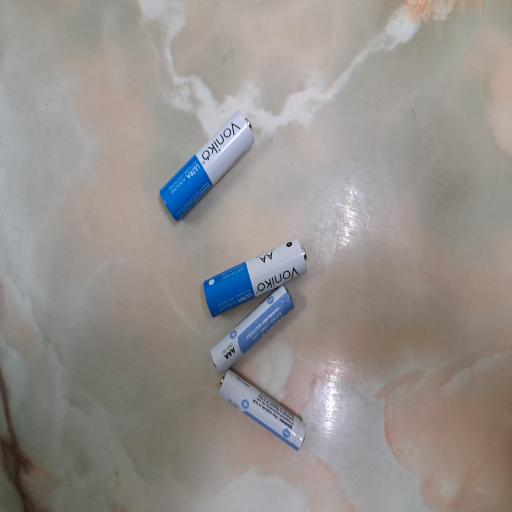battery: (159, 111, 254, 223), (203, 238, 308, 317), (209, 286, 294, 375), (218, 370, 308, 450)
